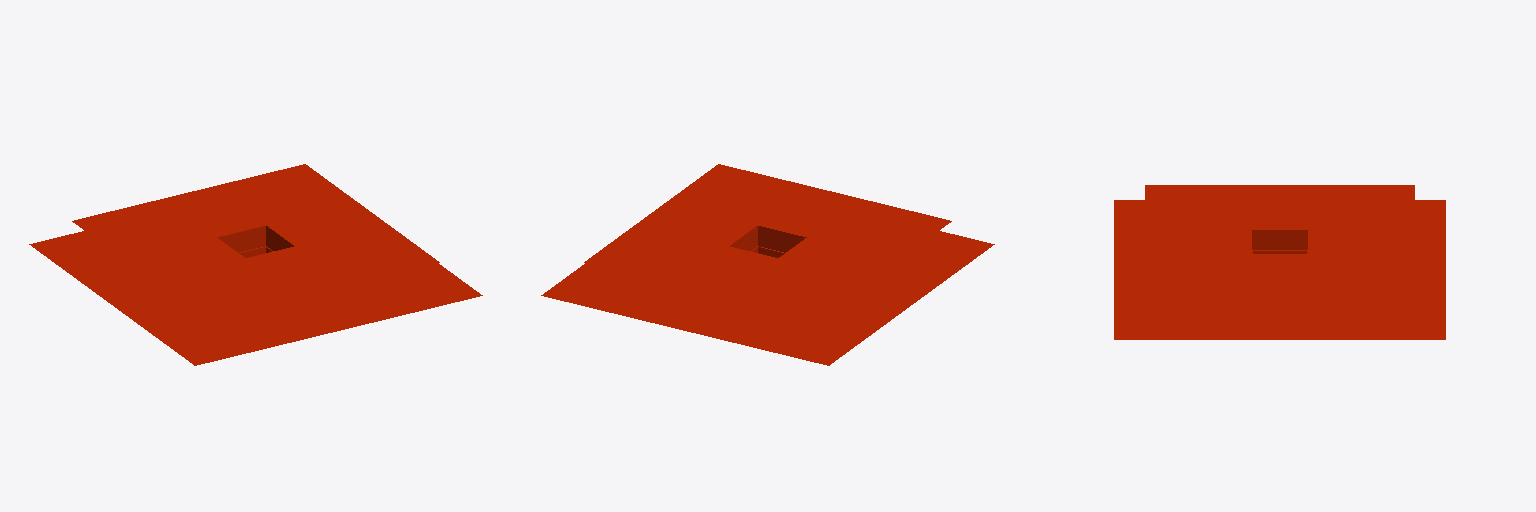
The model's file is OneWall_low.obj.
3 renders of one model, left to right at view 1: azimuth 30°, elevation 25°; view 2: azimuth 150°, elevation 25°; view 3: azimuth 270°, elevation 25°, orthographic.
Visible parts, largest first — view 1: Wall_Low_Cube.007; view 2: Wall_Low_Cube.007; view 3: Wall_Low_Cube.007.
Part boxes in pixels (left/top/right/bottom): Wall_Low_Cube.007: left=29, top=164, right=482, bottom=365; Wall_Low_Cube.007: left=541, top=164, right=994, bottom=365; Wall_Low_Cube.007: left=1114, top=185, right=1445, bottom=339.
Size of the model in its own units: 2.46 by 0.23 by 2.46.